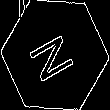N_NE: (27, 26, 83, 84)
